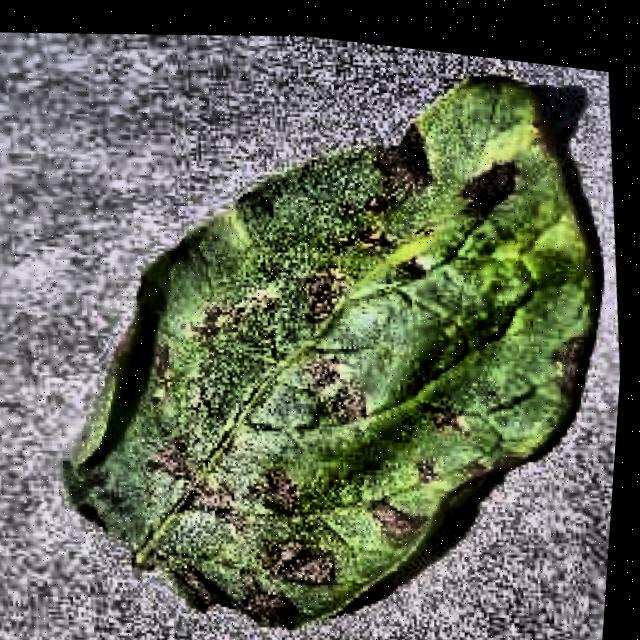Potato_leaf_early_blight: (62, 78, 595, 624)
